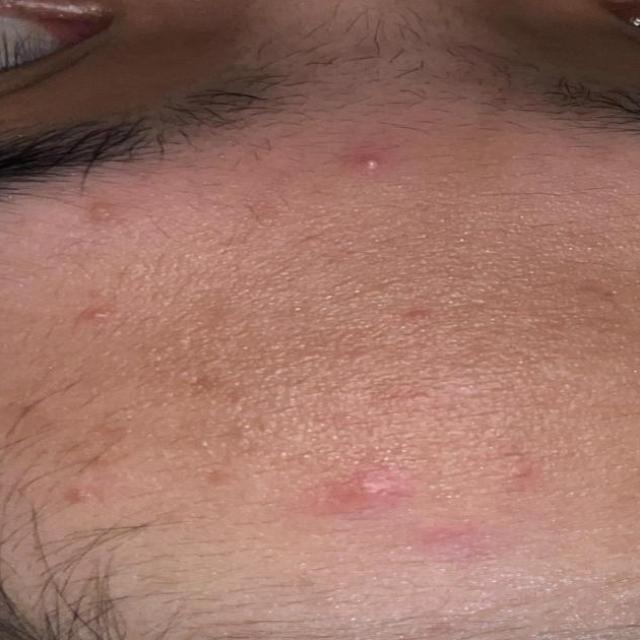papule: (269, 419, 596, 577)
pustule: (69, 294, 124, 344), (351, 140, 396, 190)
